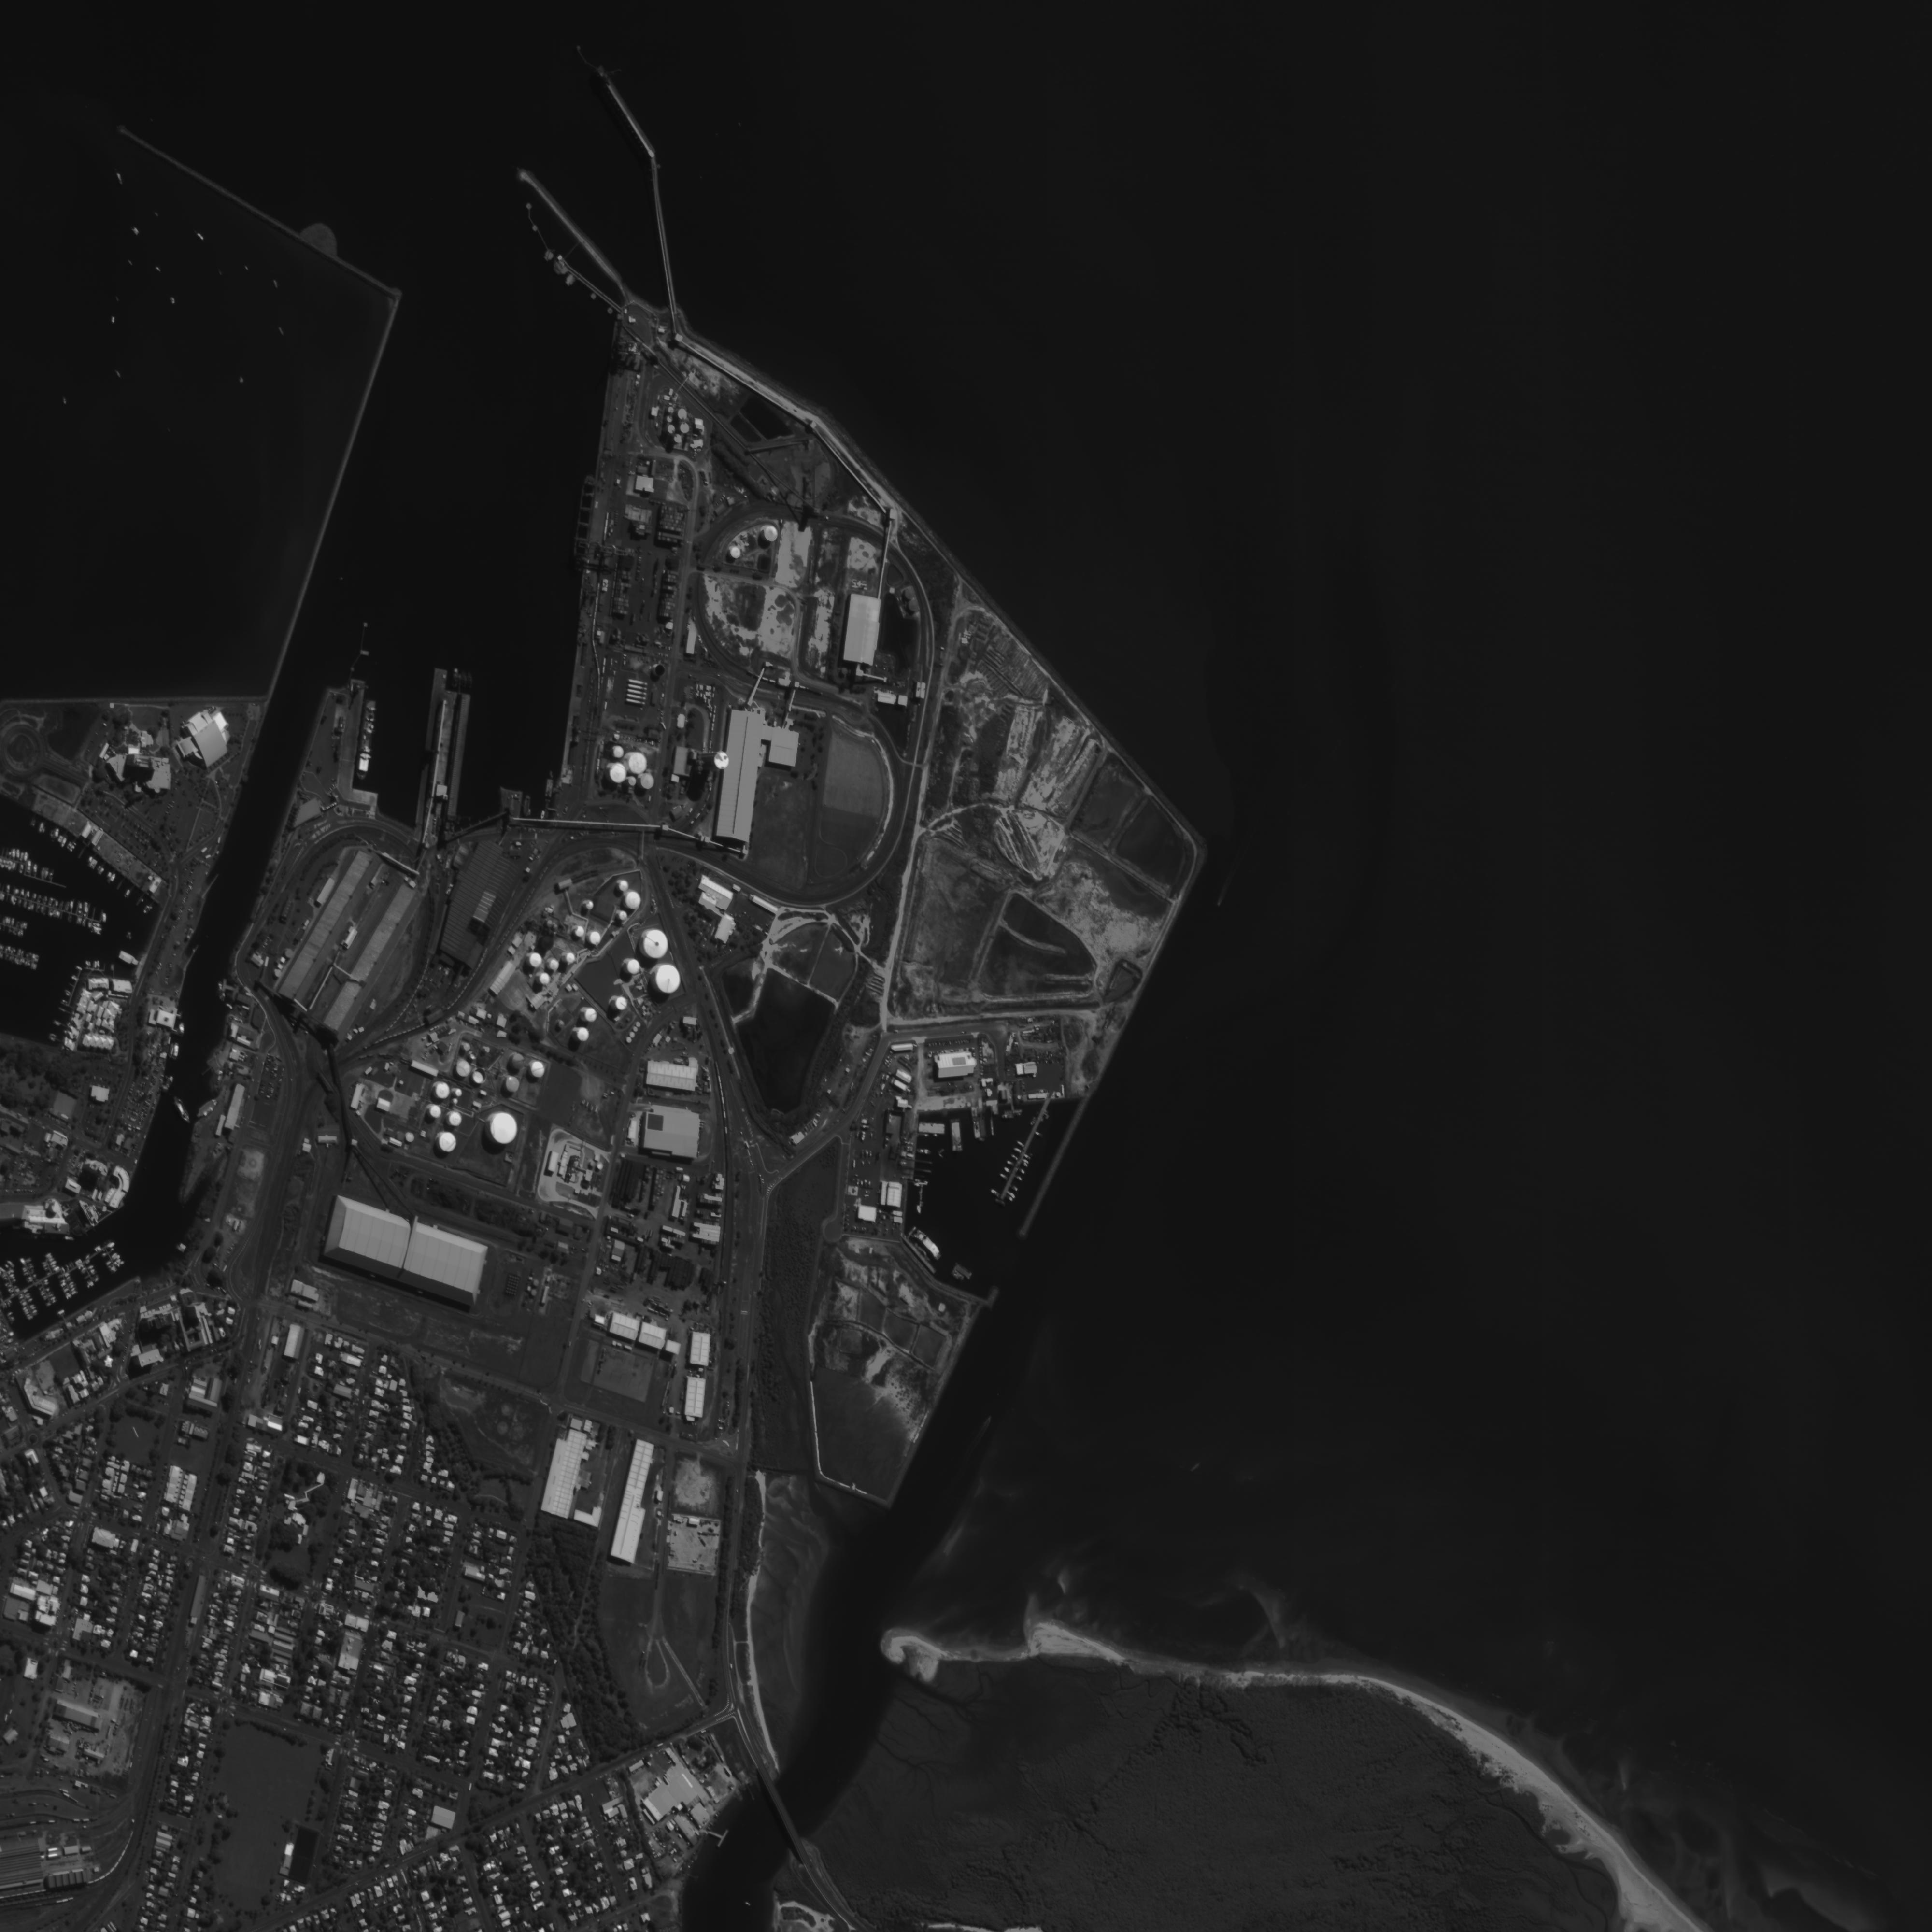harbor: (591, 60, 683, 322), (506, 157, 642, 310), (982, 1092, 1065, 1208), (2, 879, 108, 939), (4, 847, 73, 893), (2, 941, 44, 975), (97, 1242, 127, 1276), (0, 913, 30, 943), (76, 1256, 103, 1290), (16, 1288, 42, 1322), (16, 1254, 42, 1288), (55, 1269, 80, 1302), (0, 1267, 25, 1299), (35, 1249, 62, 1277), (35, 1277, 57, 1309)
ship: (350, 695, 382, 782), (170, 1092, 195, 1125), (541, 766, 557, 809), (915, 1143, 934, 1159), (989, 1185, 1003, 1200), (1000, 1111, 1016, 1122)
